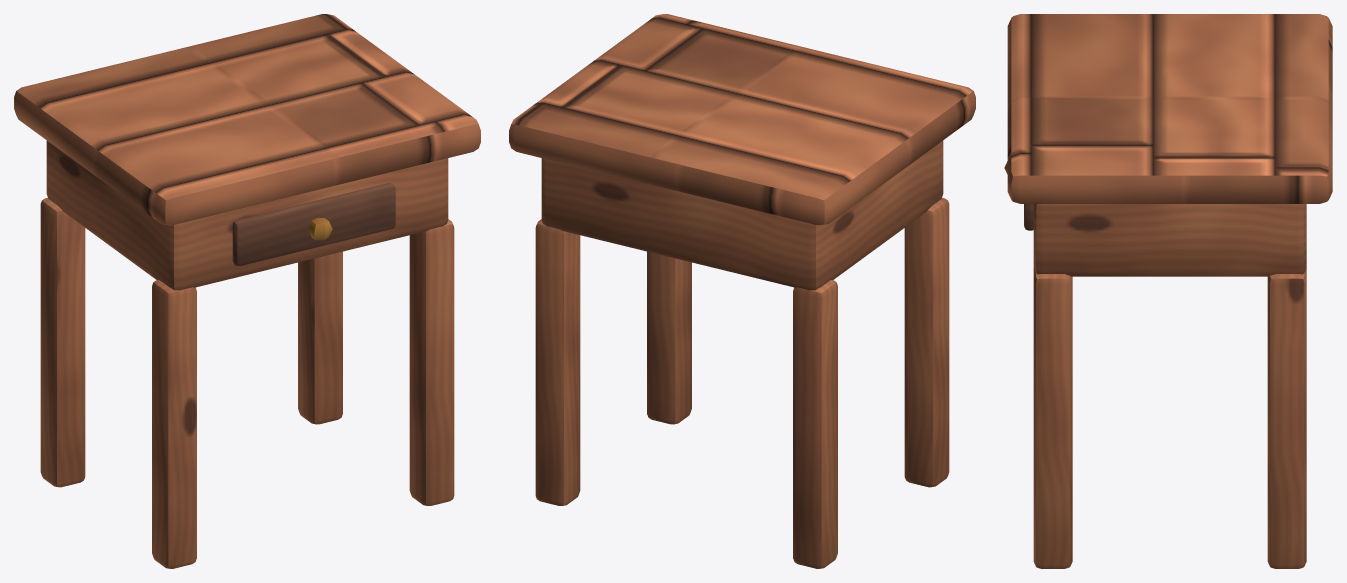
The model's file is side_table.gltf.
The picture shows the model from 3 angles, left to right: view 1: azimuth 30°, elevation 25°; view 2: azimuth 150°, elevation 25°; view 3: azimuth 270°, elevation 25°; orthographic projection. The views are drawn at different scales.
Parts seen in each view (by area): view 1: side_table_mesh; view 2: side_table_mesh; view 3: side_table_mesh.
Part boxes in pixels (bbox=[...]): side_table_mesh: bbox=[14, 14, 480, 568]; side_table_mesh: bbox=[509, 14, 975, 568]; side_table_mesh: bbox=[1004, 14, 1332, 568].
Size of what is drawn, in the model's own units: 0.6 by 0.69 by 0.505.
Materials: 4 (4 with a texture image).
